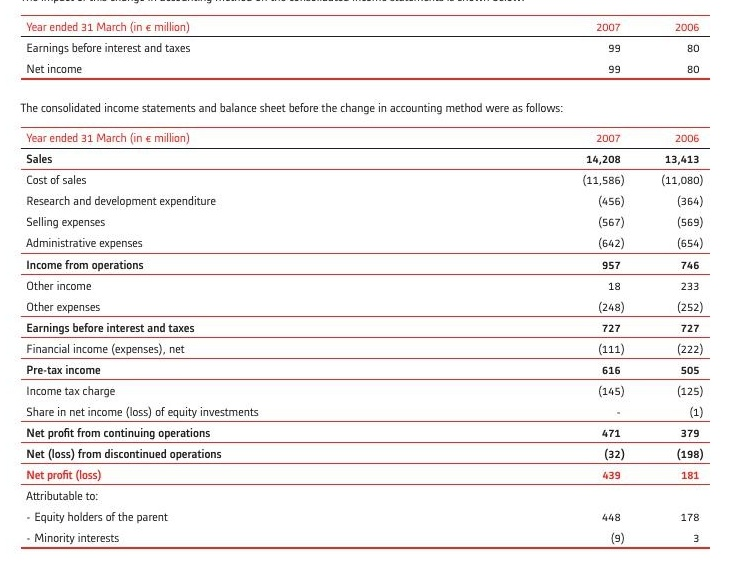table: (0, 0, 732, 561)
